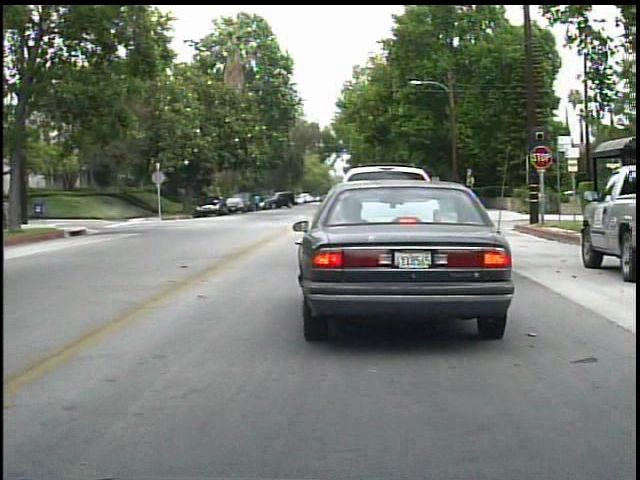person: (252, 192, 263, 216)
